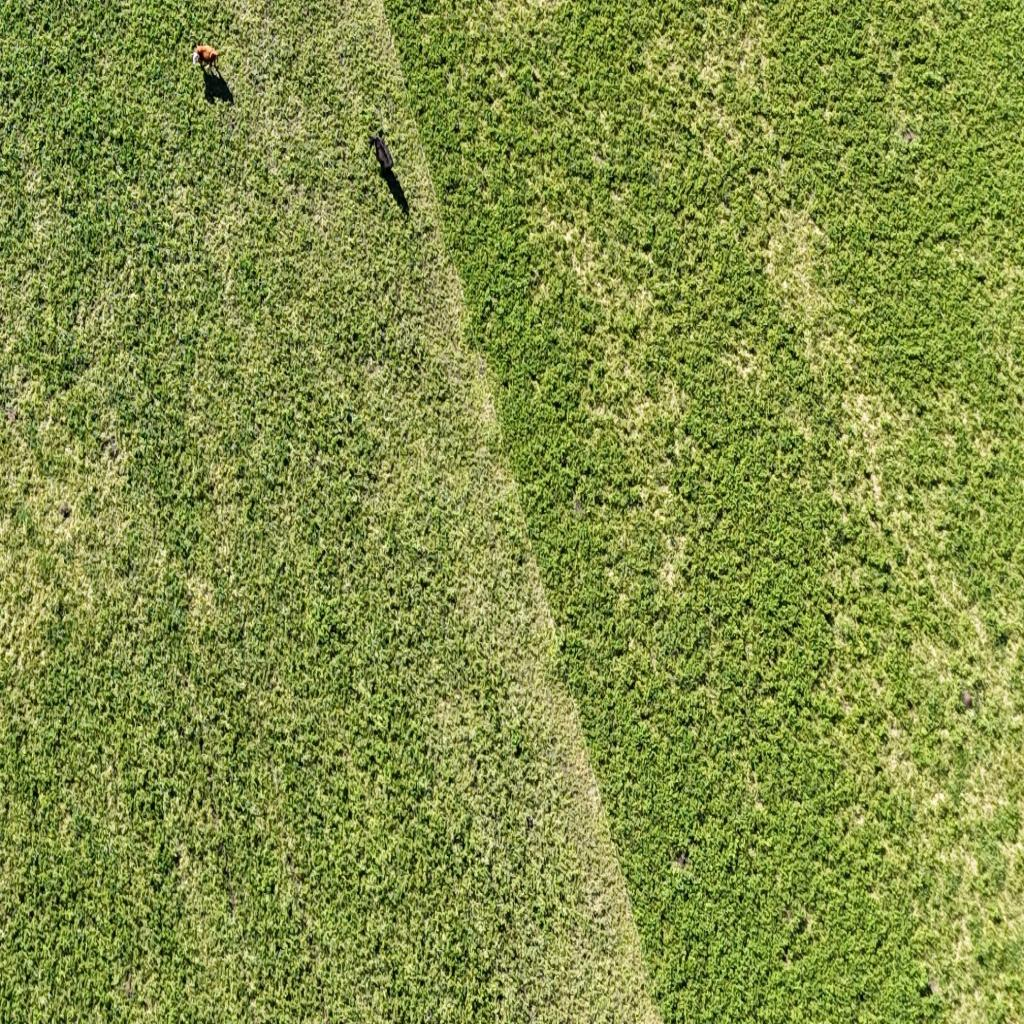cow: (370, 133, 394, 173), (192, 44, 219, 70)
